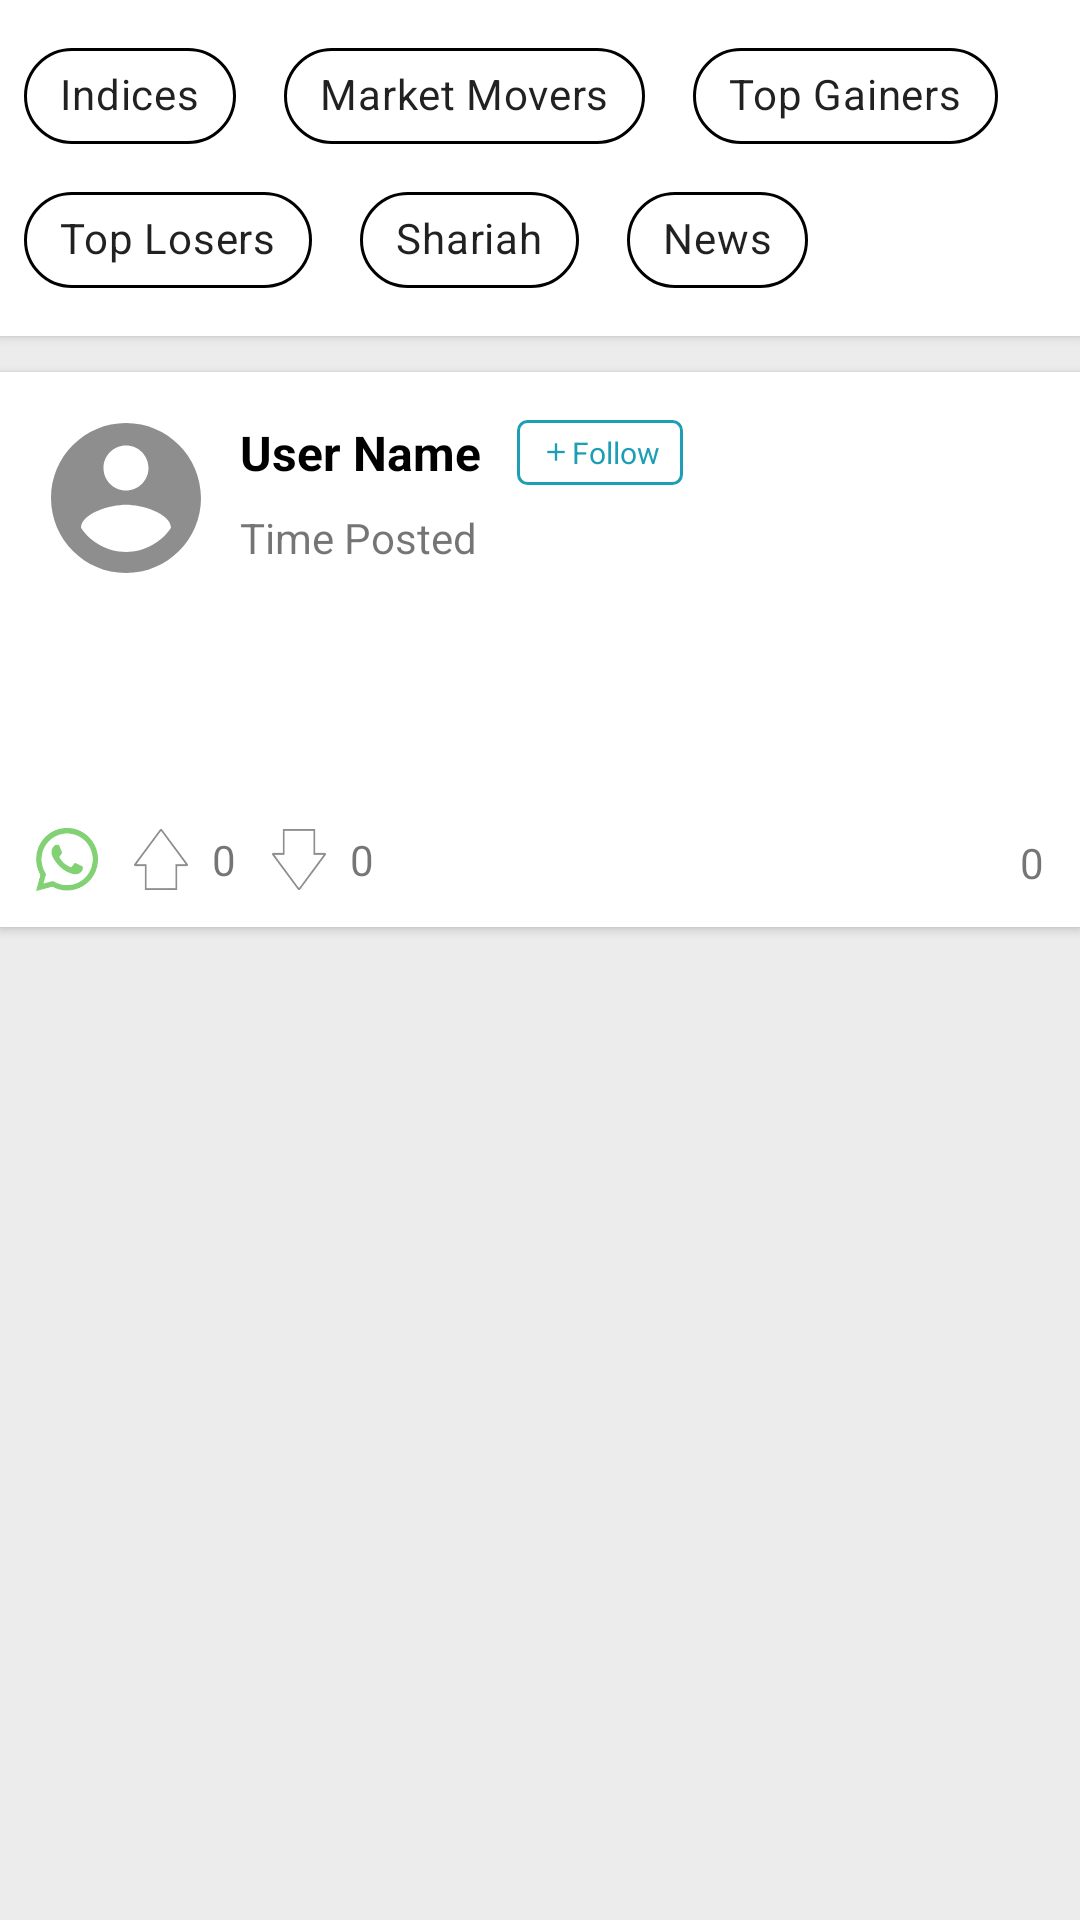

Where icons sit on this 1080*1920 app screen, as (x1, y1, x2, y2):
profile: (51, 423, 201, 573)
